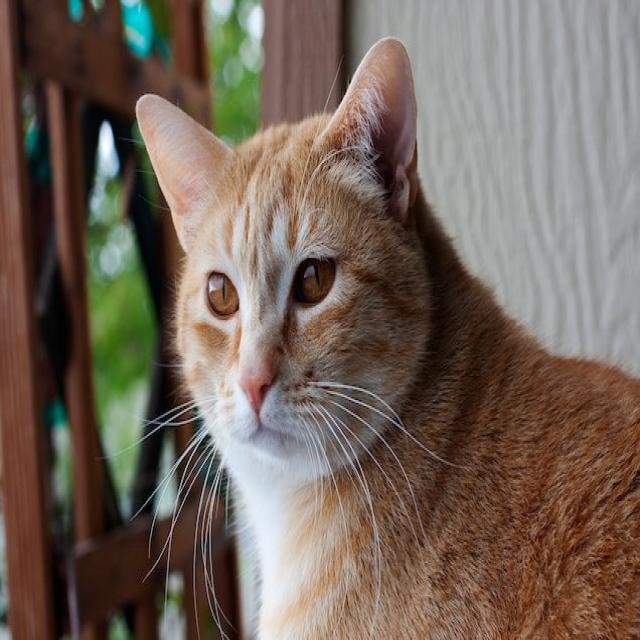cat: (152, 126, 436, 505)
